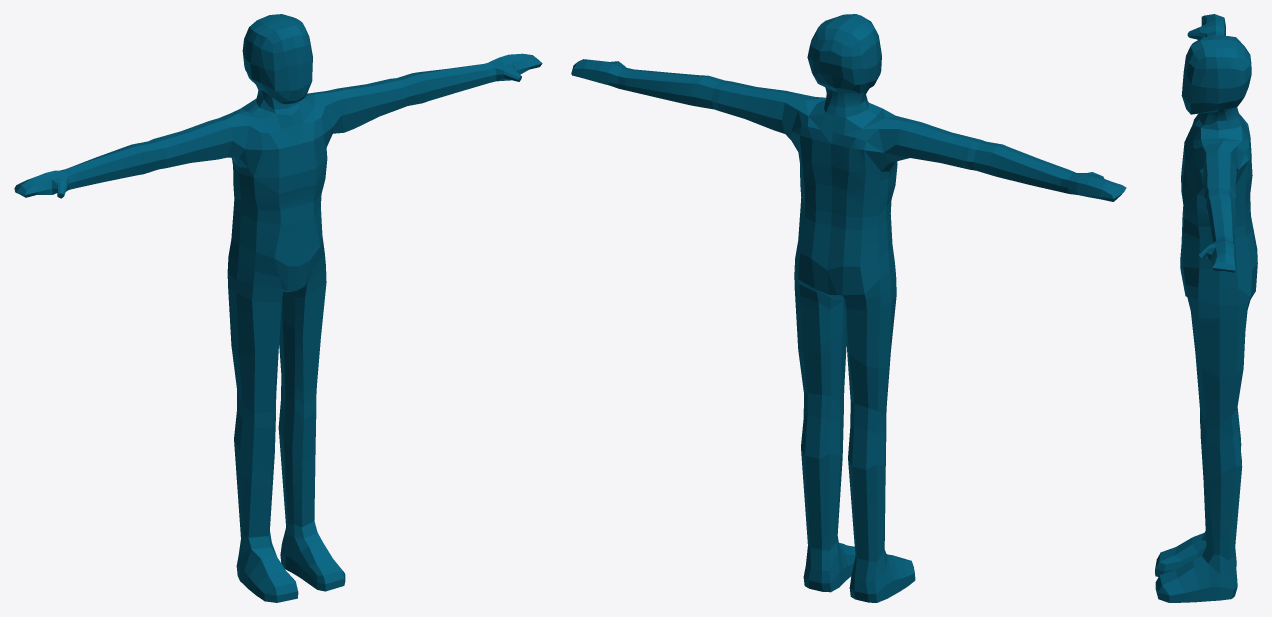
3 renders of one model, left to right at view 1: azimuth 30°, elevation 25°; view 2: azimuth 150°, elevation 25°; view 3: azimuth 270°, elevation 25°, orthographic. The views are drawn at different scales.
Parts seen in each view (by area): view 1: AxolotlBody Axolotl; view 2: AxolotlBody Axolotl; view 3: AxolotlBody Axolotl.
Boxes of the visible parts, bbox=[...] form: AxolotlBody Axolotl: bbox=[14, 14, 542, 602]; AxolotlBody Axolotl: bbox=[571, 14, 1126, 602]; AxolotlBody Axolotl: bbox=[1155, 14, 1257, 602].
Bounding box in the file's own units: 1.81 × 1.81 × 0.3108.
